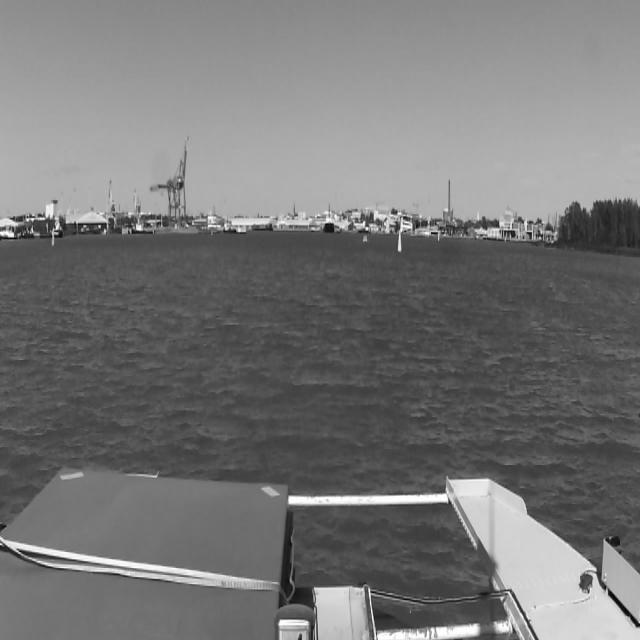buoy: (397, 230, 402, 253), (51, 230, 55, 247), (437, 233, 440, 242)
ship: (309, 213, 355, 234), (324, 203, 334, 233), (362, 235, 368, 242)
